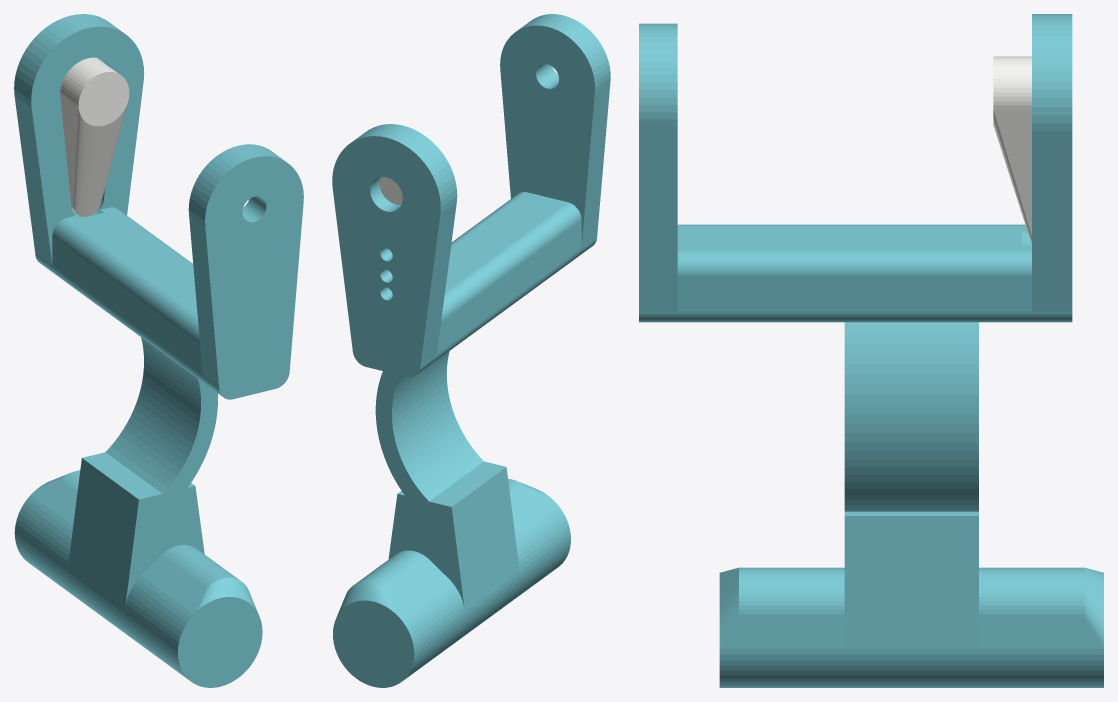
Rendered from tail.glb.
3 renders of one model, left to right at view 1: azimuth 30°, elevation 25°; view 2: azimuth 150°, elevation 25°; view 3: azimuth 270°, elevation 25°, orthographic. The views are drawn at different scales.
Visible parts, largest first — view 1: tail, tail_horn; view 2: tail, tail_horn; view 3: tail, tail_horn.
Boxes of the visible parts, left/top/right/bottom form: tail: left=14, top=14, right=303, bottom=687; tail_horn: left=60, top=57, right=129, bottom=216; tail: left=332, top=14, right=610, bottom=687; tail_horn: left=379, top=177, right=402, bottom=204; tail: left=639, top=14, right=1103, bottom=687; tail_horn: left=993, top=56, right=1031, bottom=244.
Bounding box in the file's own units: 0.016 × 0.076 × 0.0484.
